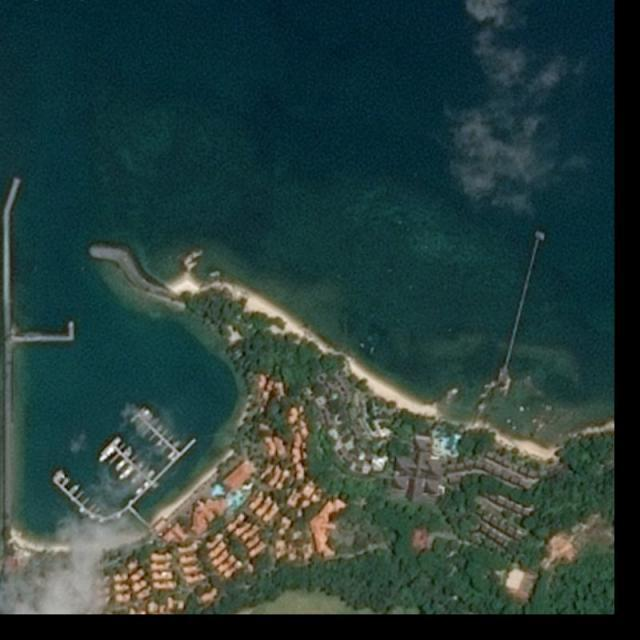ship: (98, 446, 116, 464), (134, 482, 150, 495), (122, 468, 134, 479), (116, 461, 127, 472), (70, 485, 81, 495), (56, 473, 66, 482)
